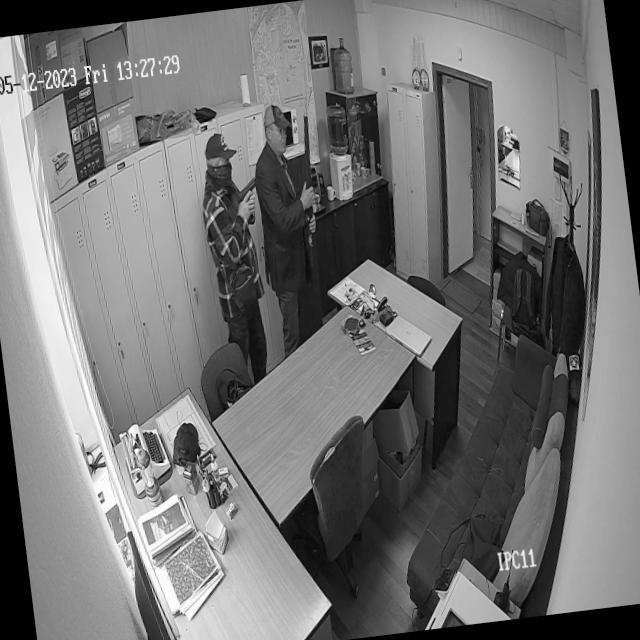gun: (233, 174, 259, 216)
person: (245, 94, 330, 320)
person with a gun: (189, 123, 278, 374)
